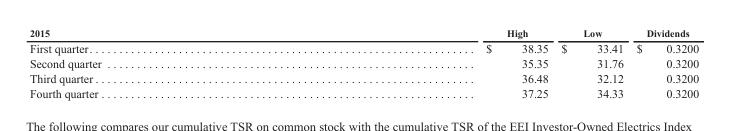table: (28, 26, 698, 99)
table column: (28, 26, 293, 99), (293, 26, 554, 99), (554, 26, 629, 99), (629, 26, 698, 99)
table column header: (28, 26, 698, 39)
table row: (28, 39, 698, 55), (28, 55, 698, 70), (28, 70, 698, 85), (28, 85, 698, 99), (28, 26, 698, 39)
